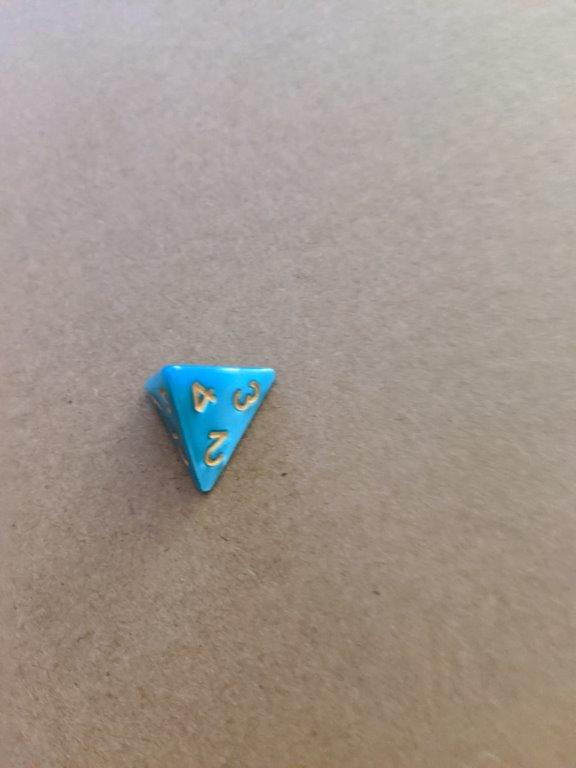d4-4: (145, 364, 279, 494)
